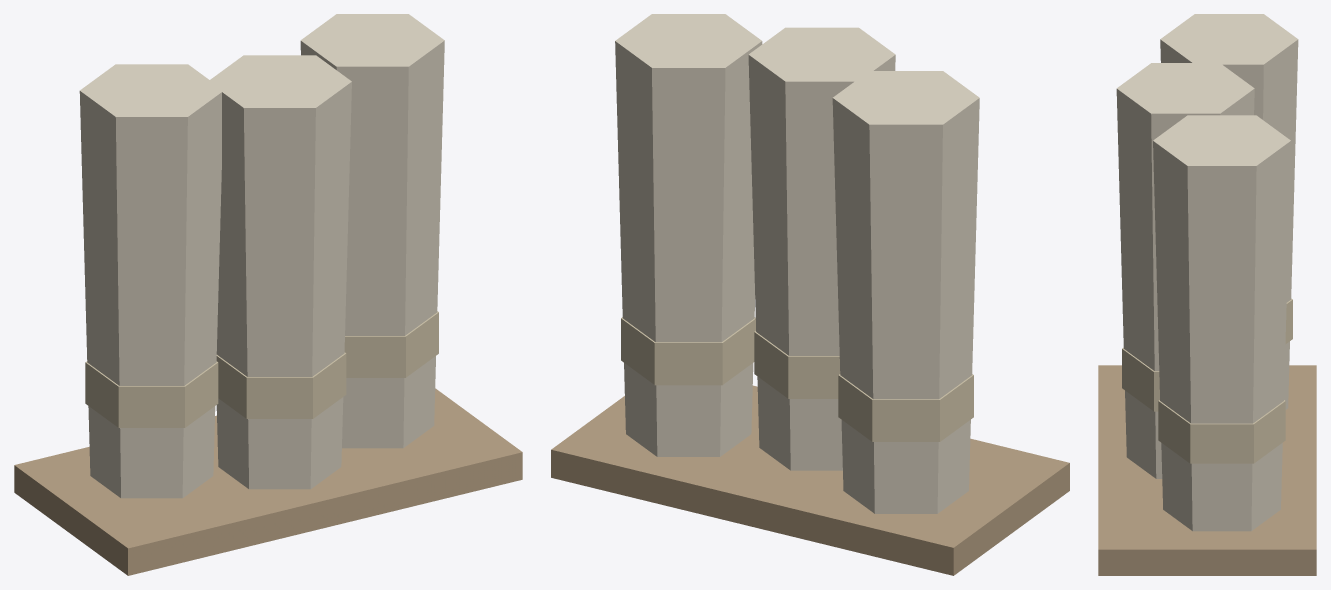
File: prop-bristle-bundle.fbx
The picture shows the model from 3 angles, left to right: view 1: azimuth 30°, elevation 25°; view 2: azimuth 150°, elevation 25°; view 3: azimuth 270°, elevation 25°; orthographic projection. The views are drawn at different scales.
Parts seen in each view (by area): view 1: prop-bristle-bundle; view 2: prop-bristle-bundle; view 3: prop-bristle-bundle.
Part boxes in pixels (x1,y1,x2,y2): prop-bristle-bundle: (14, 14, 522, 575); prop-bristle-bundle: (551, 14, 1069, 575); prop-bristle-bundle: (1098, 14, 1316, 575).
Size of the model in its own units: 12 by 12 by 6.
